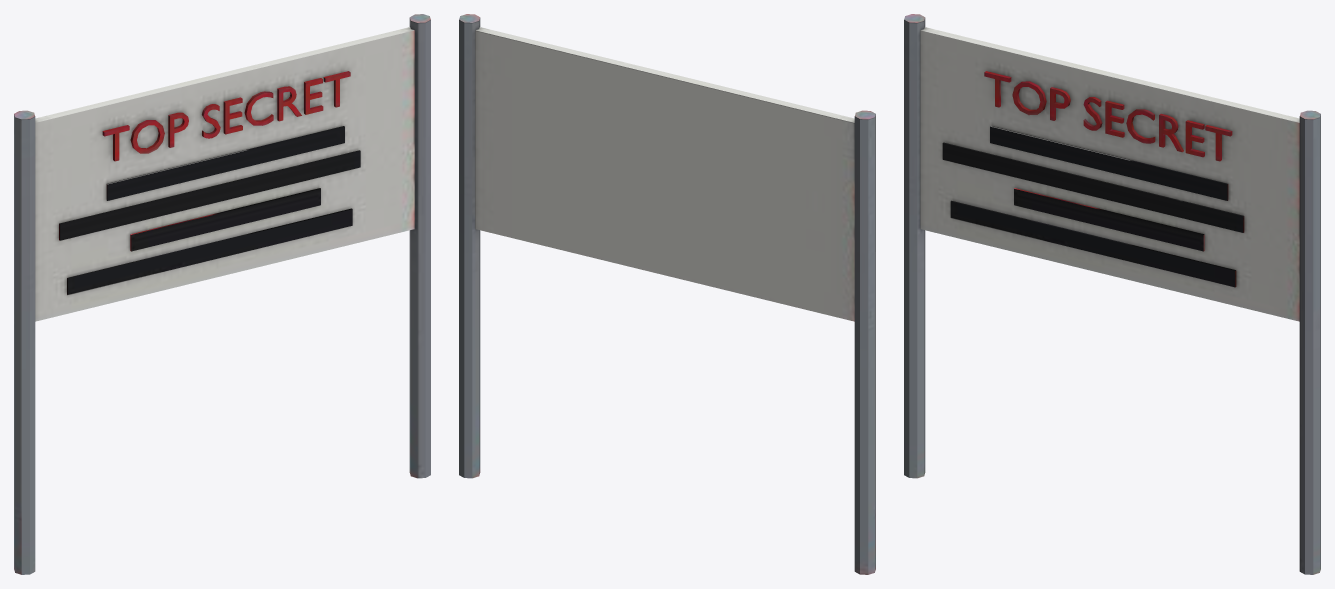
File: cartel_tachado.glb
3 views of the same model, side by side, from view 1: azimuth 30°, elevation 25°; view 2: azimuth 150°, elevation 25°; view 3: azimuth 330°, elevation 25° (orthographic).
Visible parts, largest first — view 1: cartel_tachado; view 2: cartel_tachado; view 3: cartel_tachado.
Boxes of the visible parts, left/top/right/bottom form: cartel_tachado: left=14, top=14, right=430, bottom=574; cartel_tachado: left=459, top=14, right=875, bottom=574; cartel_tachado: left=904, top=14, right=1320, bottom=574.
Bounding box in the file's own units: 2.62 × 2.75 × 0.12.
1 material, 1 textured.
